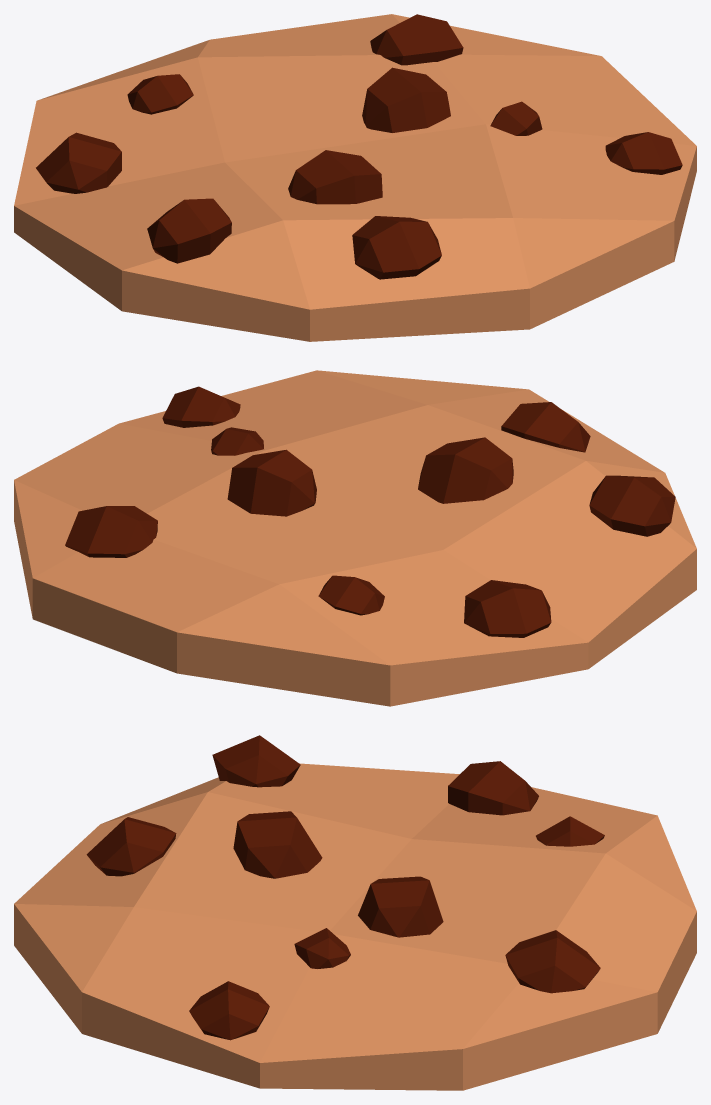
The model's file is cookie.fbx.
The picture shows the model from 3 angles, top to bottom: view 1: azimuth 30°, elevation 25°; view 2: azimuth 150°, elevation 25°; view 3: azimuth 270°, elevation 25°; orthographic projection.
Parts seen in each view (by area): view 1: Sphere.012; view 2: Sphere.012; view 3: Sphere.012.
Part boxes in pixels (x1=…): Sphere.012: x1=14, y1=14, x2=696, y2=341; Sphere.012: x1=14, y1=370, x2=696, y2=706; Sphere.012: x1=14, y1=735, x2=696, y2=1090.
Bounding box in the file's own units: 0.1079 × 0.0172 × 0.108.
1 material, 1 textured.
